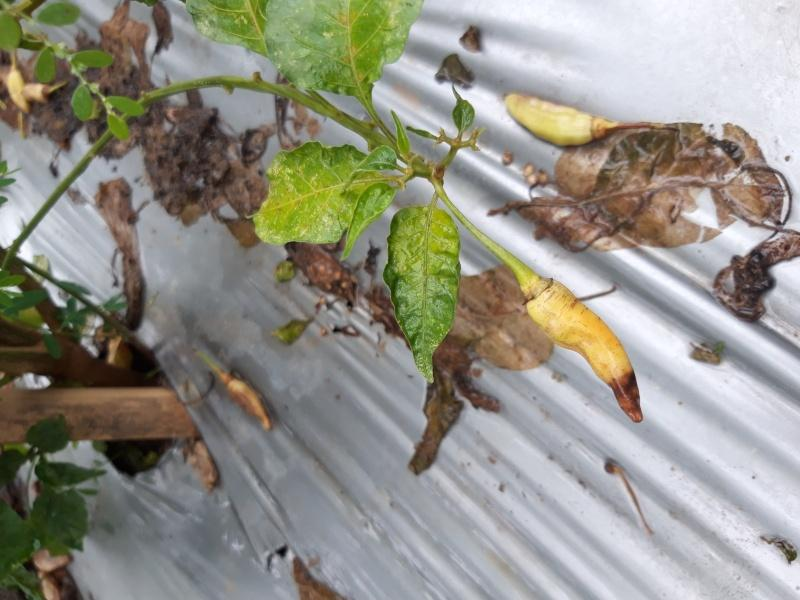antraknosa: (524, 280, 642, 424), (507, 96, 604, 142)
